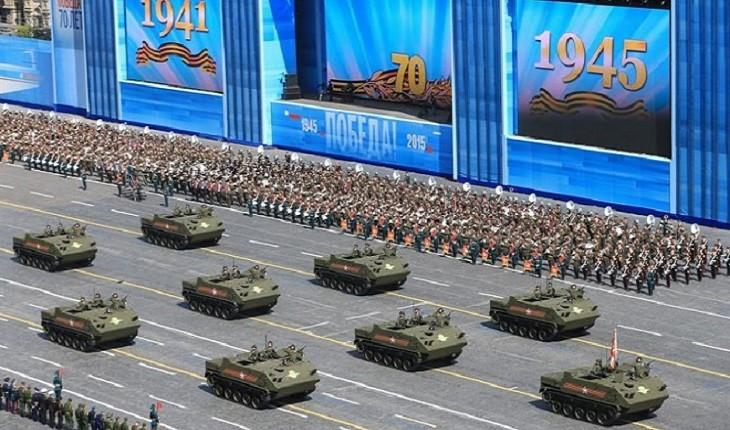armored_car: (540, 356, 670, 426), (204, 340, 321, 410), (353, 304, 469, 372), (489, 285, 600, 342), (40, 292, 142, 352), (180, 265, 281, 320), (313, 248, 412, 296), (10, 224, 98, 272), (138, 204, 226, 250)
